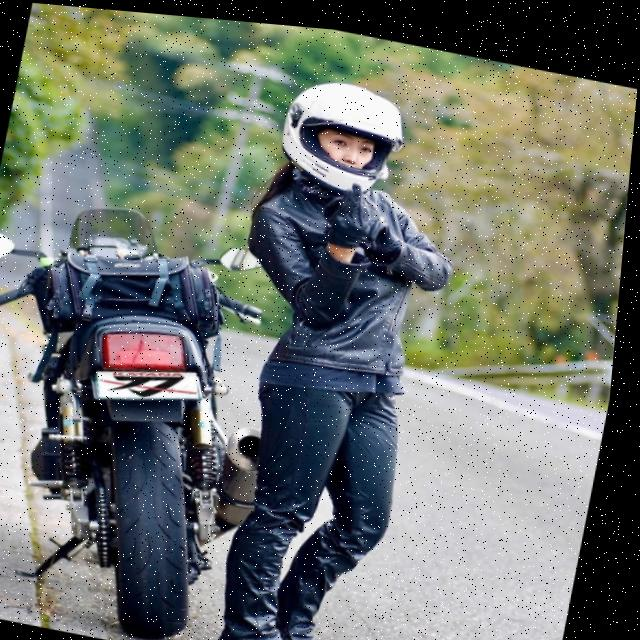helmet: (269, 61, 422, 200)
